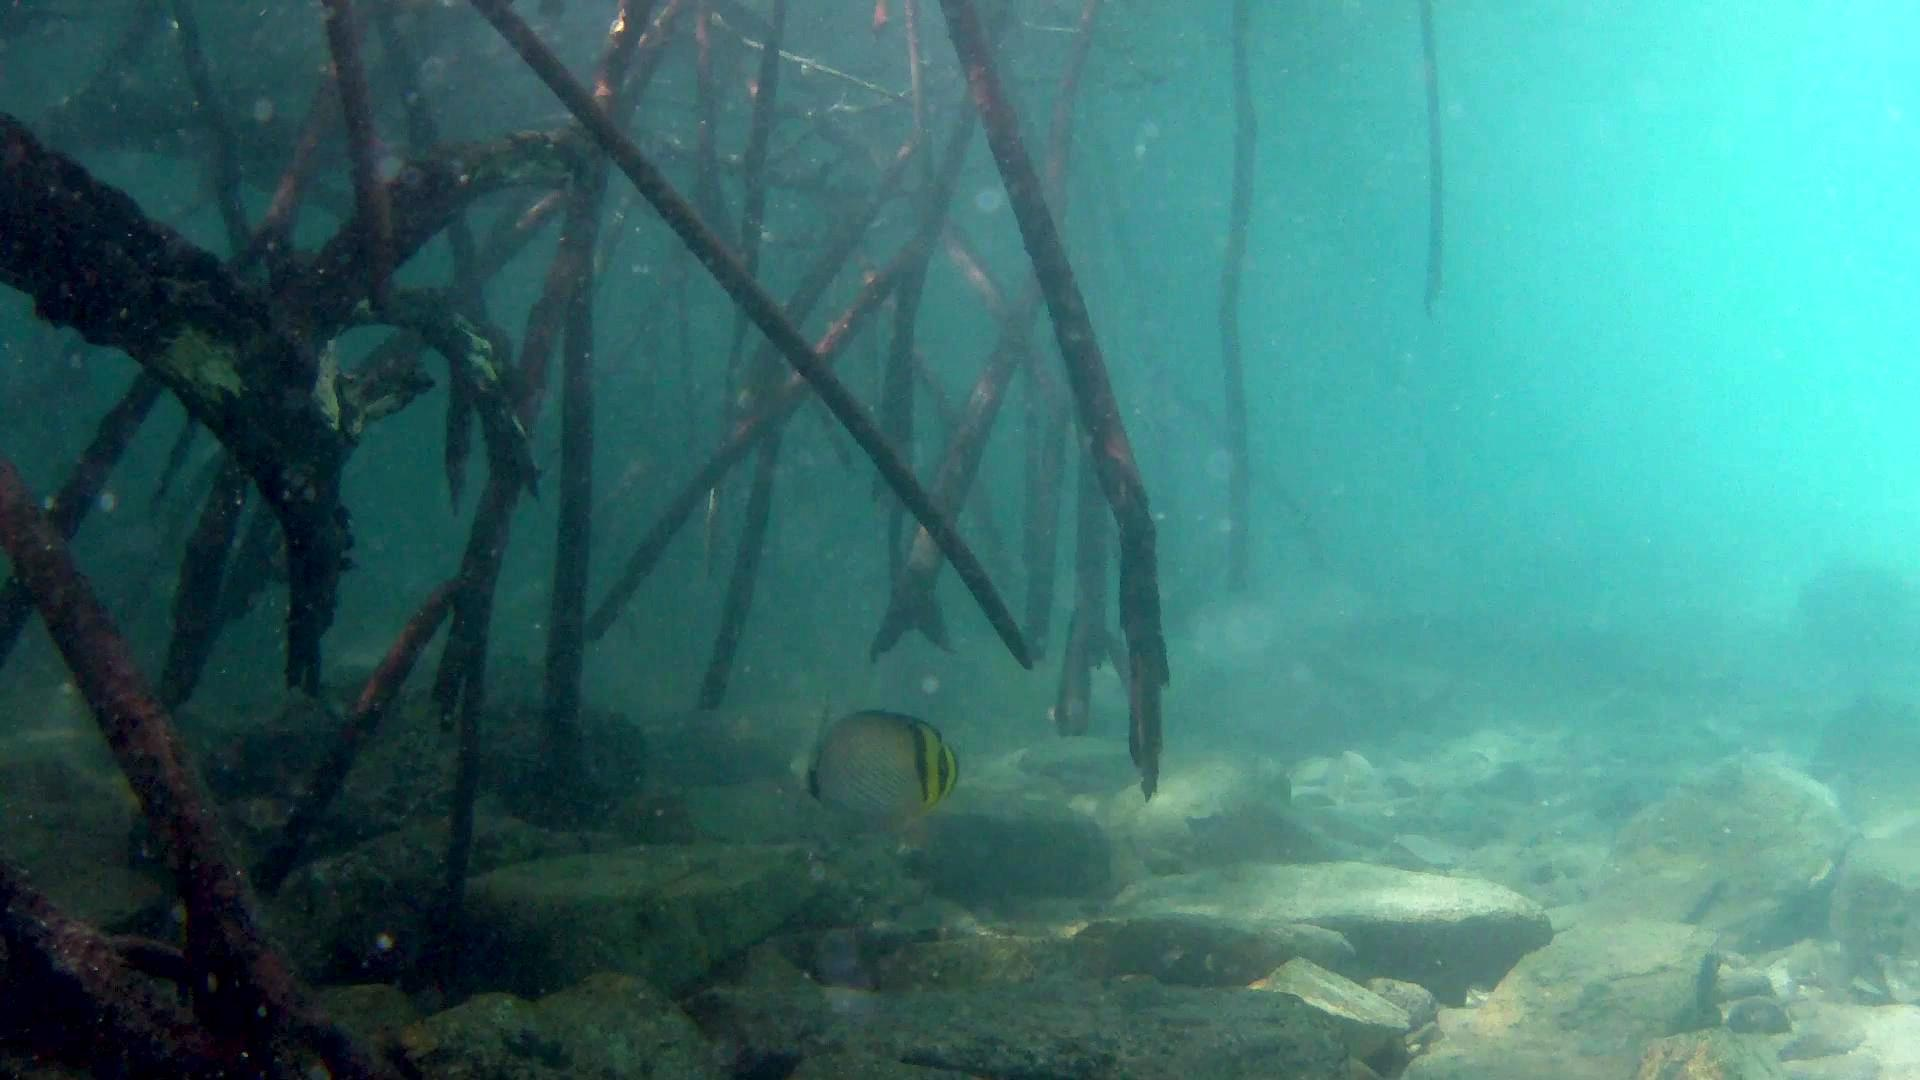chaetodon vagabundus: (790, 702, 967, 829)
